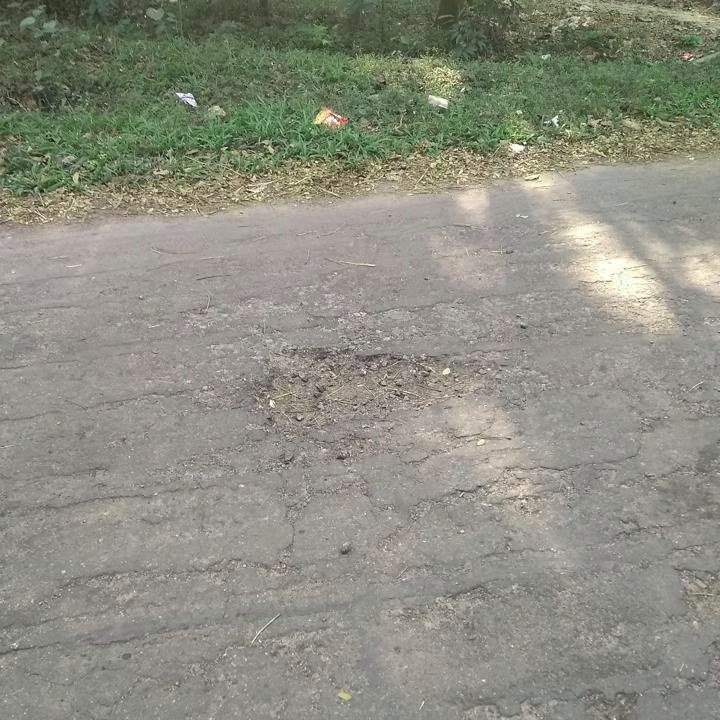pothole: (241, 343, 491, 437)
